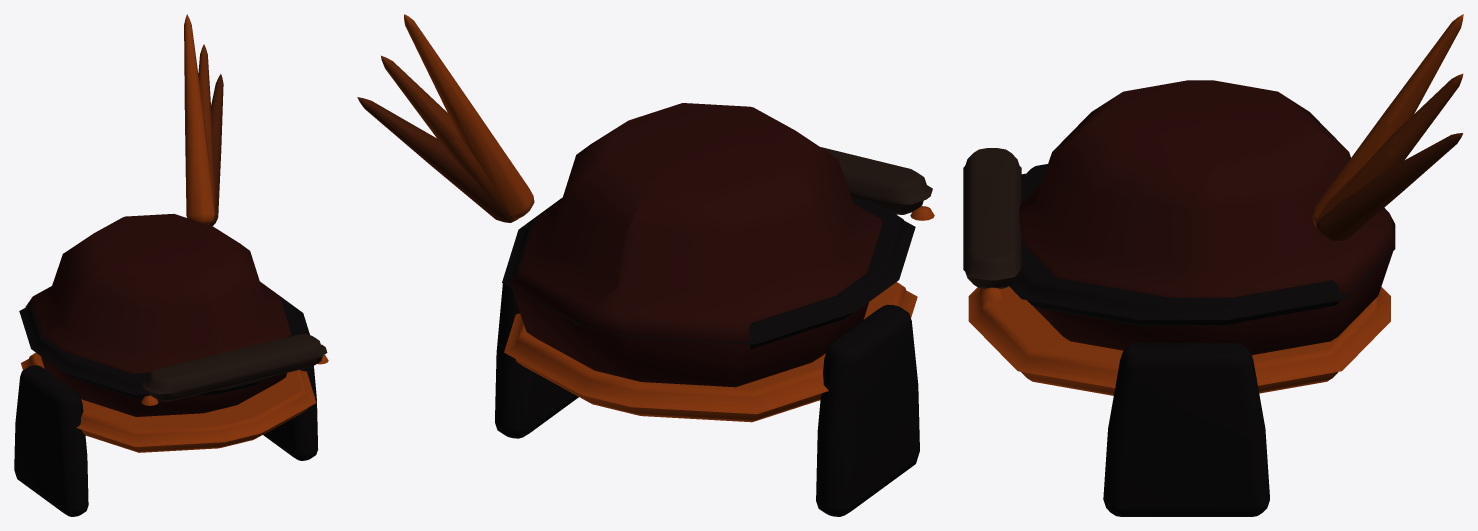
Rendered from Igneo_Elmo.fbx.
3 renders of one model, left to right at view 1: azimuth 30°, elevation 25°; view 2: azimuth 150°, elevation 25°; view 3: azimuth 270°, elevation 25°, orthographic. The views are drawn at different scales.
Parts seen in each view (by area): view 1: Piece; view 2: Piece; view 3: Piece.
Boxes of the visible parts, left/top/right/bottom form: Piece: left=14, top=14, right=328, bottom=516; Piece: left=357, top=14, right=934, bottom=516; Piece: left=963, top=14, right=1463, bottom=516.
Bounding box in the file's own units: 0.3599 × 0.4344 × 0.393.
